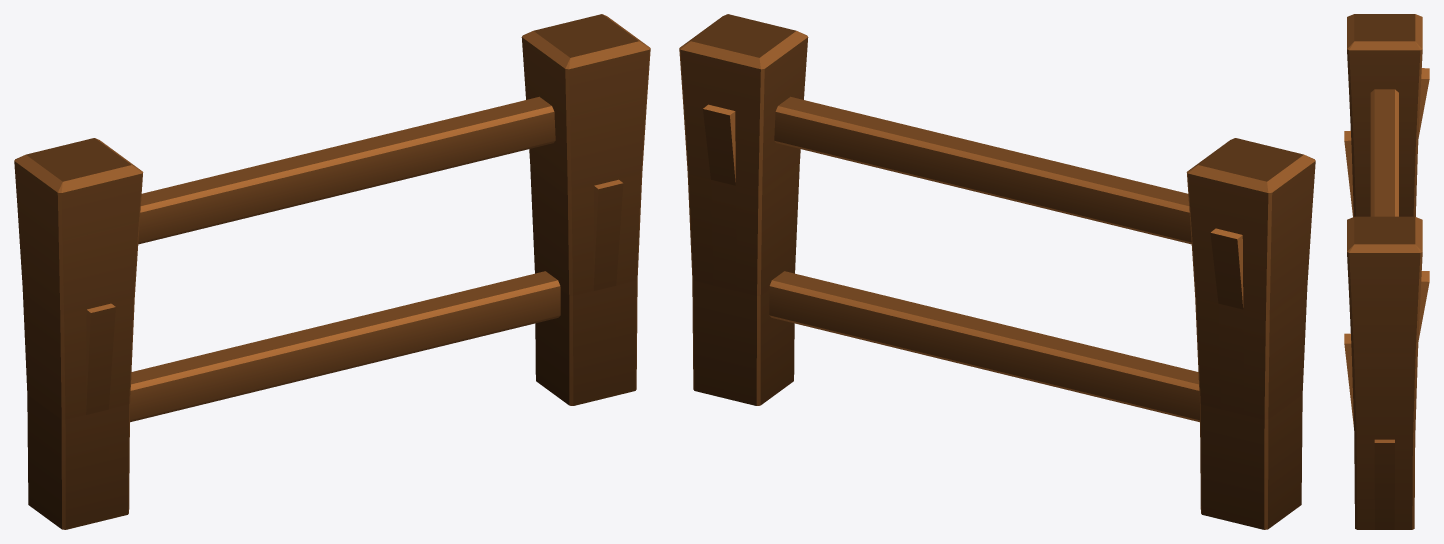
Rendered from Fence-2-1.fbx.
3 views of the same model, side by side, from view 1: azimuth 30°, elevation 25°; view 2: azimuth 150°, elevation 25°; view 3: azimuth 270°, elevation 25° (orthographic). The views are drawn at different scales.
Parts seen in each view (by area): view 1: Fence-2-1; view 2: Fence-2-1; view 3: Fence-2-1.
Boxes of the visible parts, x1=… form: Fence-2-1: x1=14, y1=14, x2=650, y2=529; Fence-2-1: x1=679, y1=14, x2=1315, y2=529; Fence-2-1: x1=1344, y1=14, x2=1429, y2=529.
Bounding box in the file's own units: 261 × 147 × 39.69.
